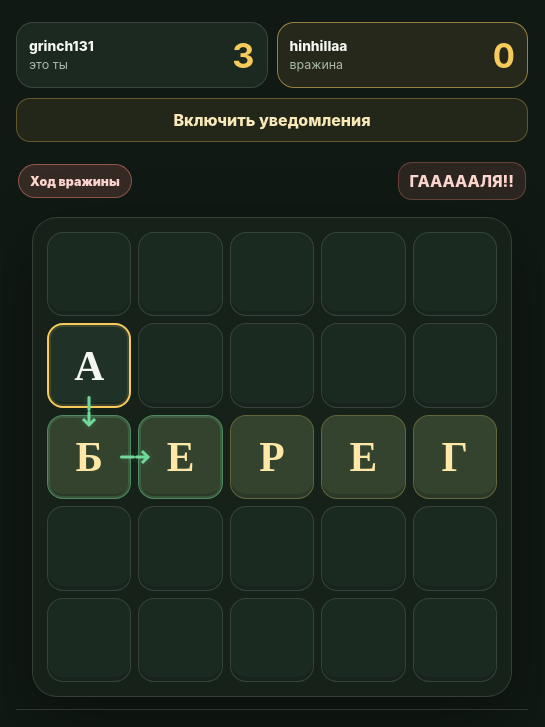
App states and orchestration › locks the confirmed view when an operation reports a lost connection
Click the button "ГАААААЛЯ!!" at (462,181), box [398,162,526,200]
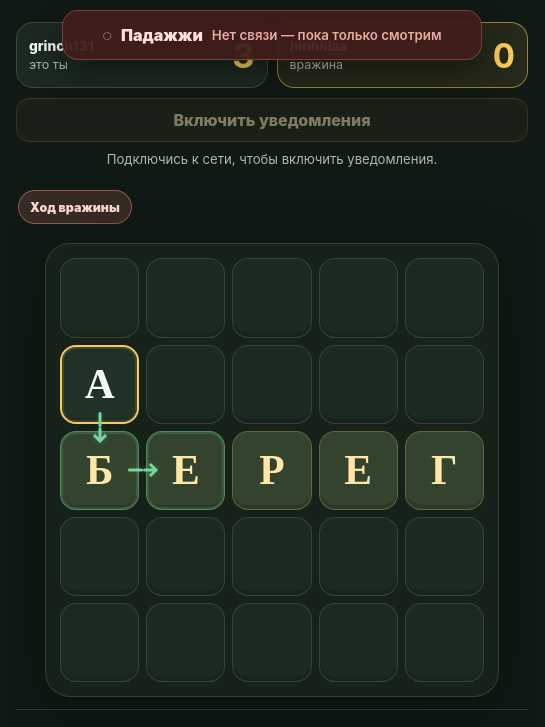
expect the text "Падажжи" is shown: met, box [121,25,203,45]
